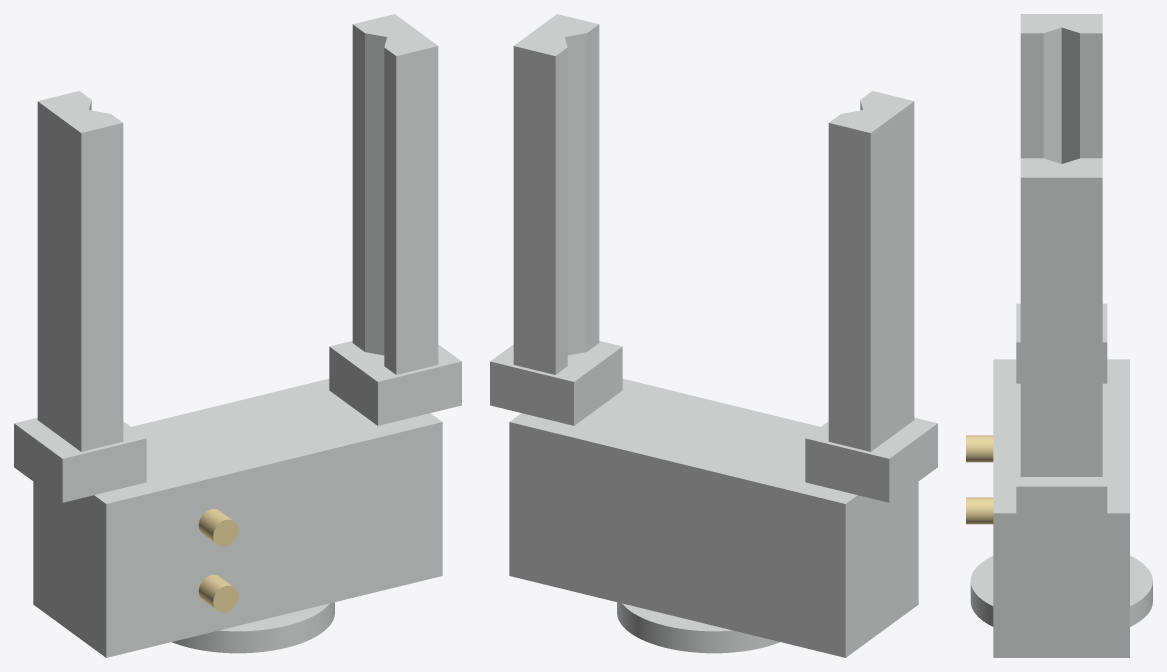
File: gripper.glb
3 views of the same model, side by side, from view 1: azimuth 30°, elevation 25°; view 2: azimuth 150°, elevation 25°; view 3: azimuth 270°, elevation 25° (orthographic). The views are drawn at different scales.
Parts seen in each view (by area): view 1: gripper_body, finger_r, finger_l, adapter_plate, air_port_open, air_port_close; view 2: gripper_body, finger_r, finger_l, adapter_plate; view 3: finger_r, gripper_body, finger_l, adapter_plate, air_port_open, air_port_close.
Boxes of the visible parts, left/top/right/bottom form: gripper_body: left=33, top=378, right=442, bottom=657; finger_r: left=329, top=14, right=461, bottom=425; finger_l: left=14, top=91, right=146, bottom=502; adapter_plate: left=172, top=602, right=334, bottom=653; air_port_open: left=198, top=575, right=238, bottom=612; air_port_close: left=198, top=509, right=238, bottom=546; gripper_body: left=509, top=378, right=918, bottom=657; finger_r: left=490, top=14, right=622, bottom=425; finger_l: left=805, top=91, right=937, bottom=502; adapter_plate: left=617, top=602, right=779, bottom=653; finger_r: left=1016, top=158, right=1107, bottom=527; gripper_body: left=993, top=359, right=1129, bottom=657; finger_l: left=1016, top=14, right=1107, bottom=383; adapter_plate: left=970, top=555, right=1152, bottom=626; air_port_open: left=966, top=497, right=993, bottom=524; air_port_close: left=966, top=435, right=993, bottom=462.
Bounding box in the file's own units: 0.19 × 0.245 × 0.082.
